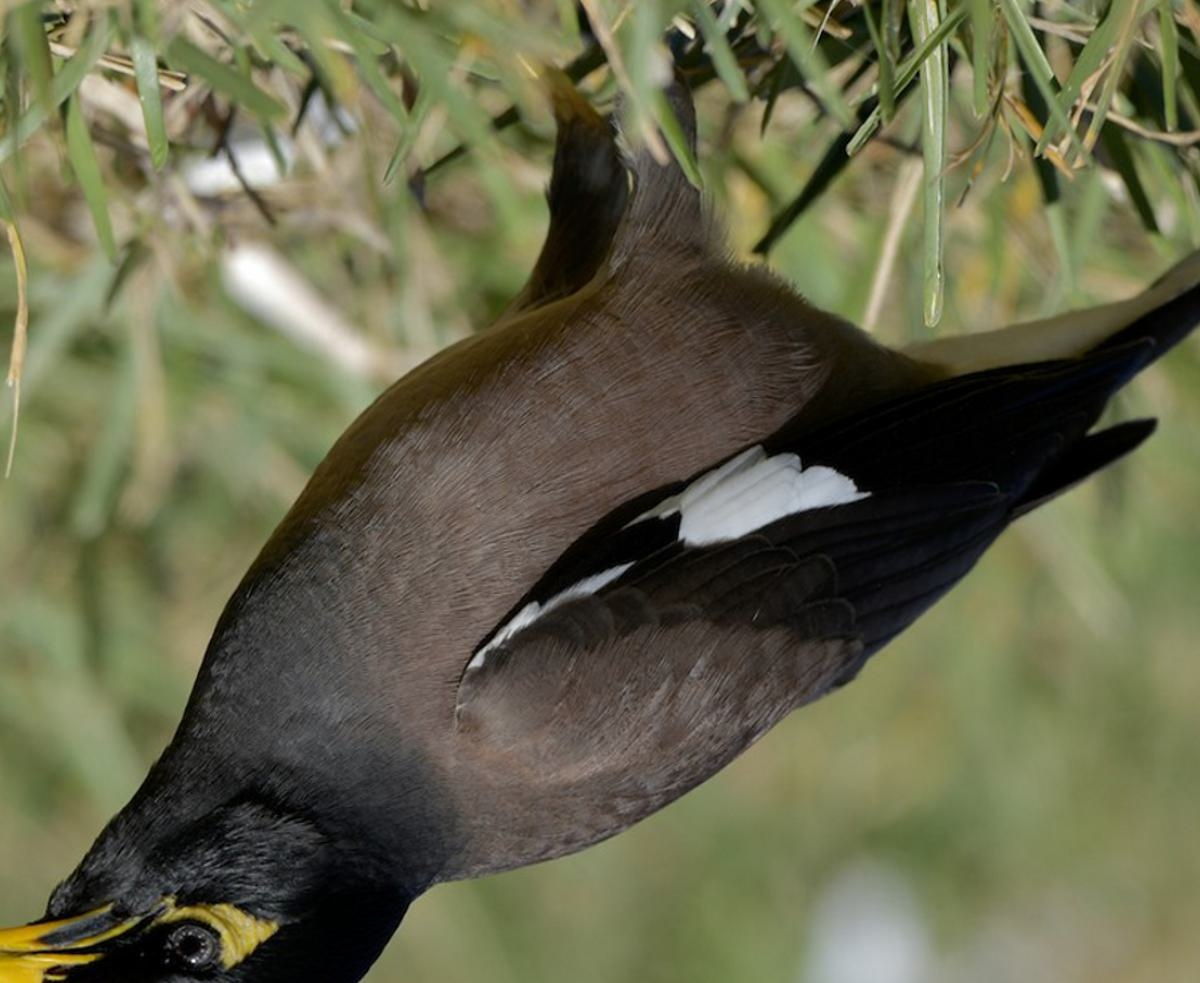myna: (1, 214, 1063, 983)
